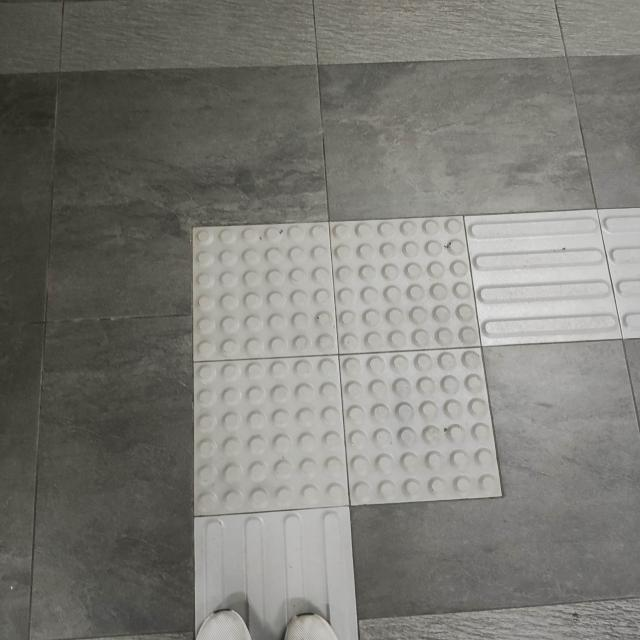kanan: (114, 163, 640, 569)
